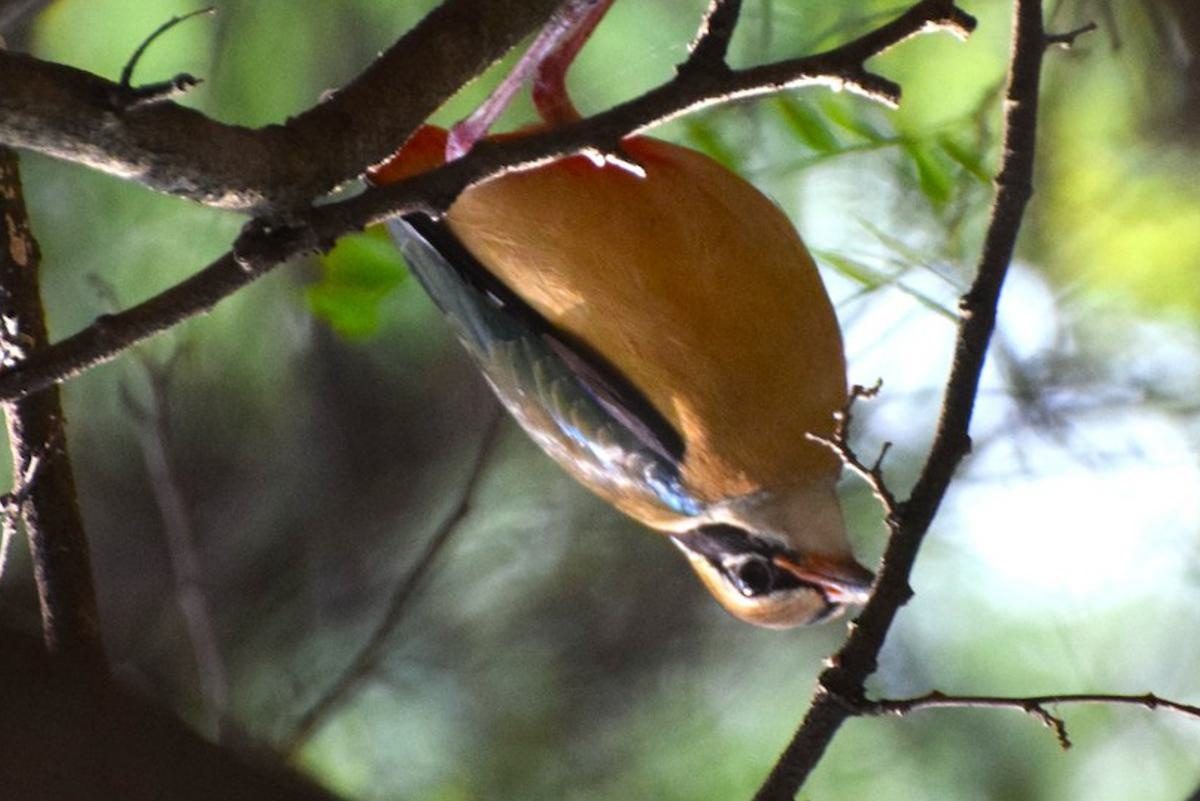pitta: (397, 92, 909, 635)
